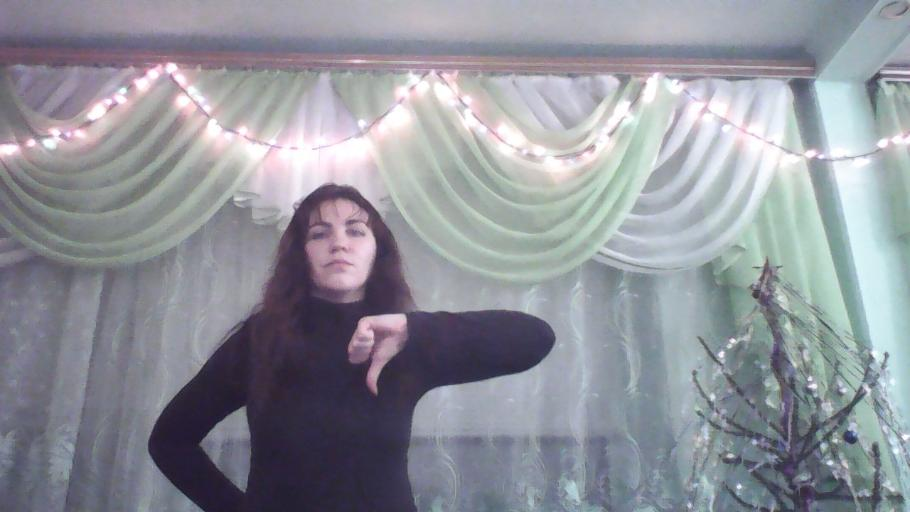dislike: (344, 308, 407, 399)
